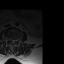CCS_normal: (12, 37, 14, 46)
LFS_normal: (16, 37, 18, 43)
LLS_stenosis: (14, 37, 16, 44)
RFS_normal: (8, 36, 10, 42)
RLS_normal: (10, 37, 12, 43)
